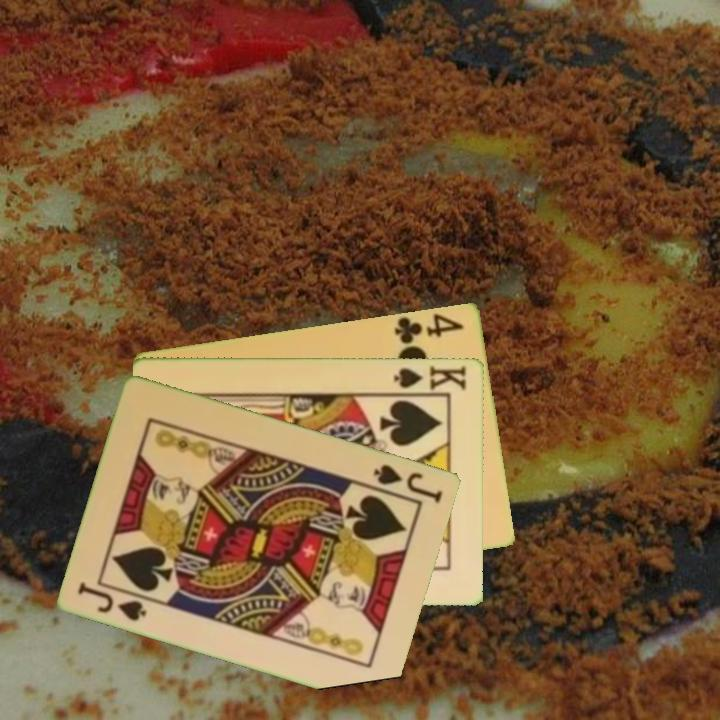4c: (391, 309, 467, 350)
Js: (370, 460, 446, 506), (75, 578, 150, 624)
Ks: (390, 362, 469, 395)
